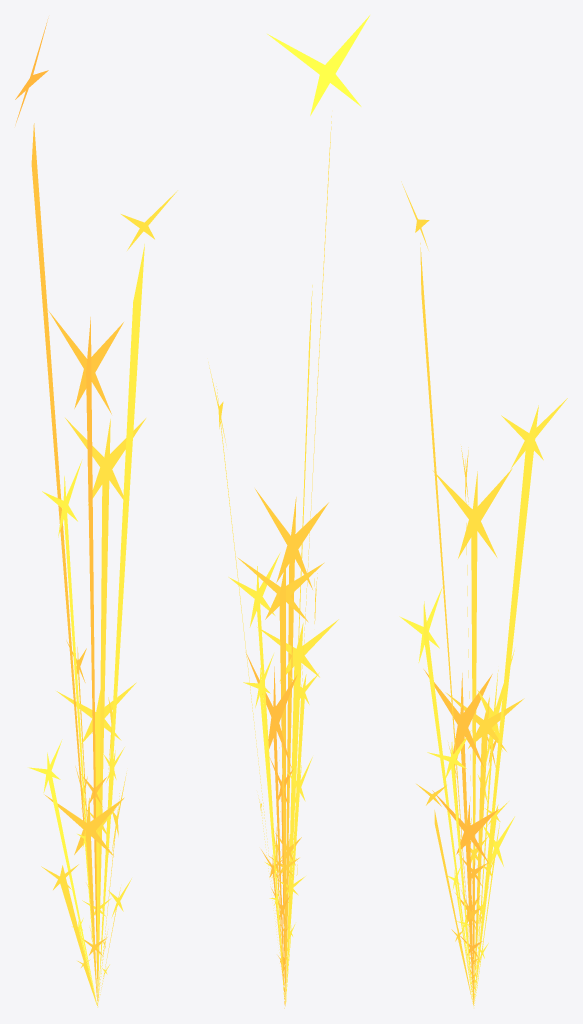
The model's file is sparkler.glb.
3 views of the same model, side by side, from view 1: azimuth 30°, elevation 25°; view 2: azimuth 150°, elevation 25°; view 3: azimuth 270°, elevation 25° (orthographic). The views are drawn at different scales.
Parts seen in each view (by area): view 1: spark.001; view 2: spark.001; view 3: spark.001.
Boxes of the visible parts, bbox=[...] form: spark.001: bbox=[15, 18, 177, 1007]; spark.001: bbox=[208, 15, 369, 1008]; spark.001: bbox=[399, 181, 567, 1006].
Bounding box in the file's own units: 1.57 × 10.33 × 1.64.
